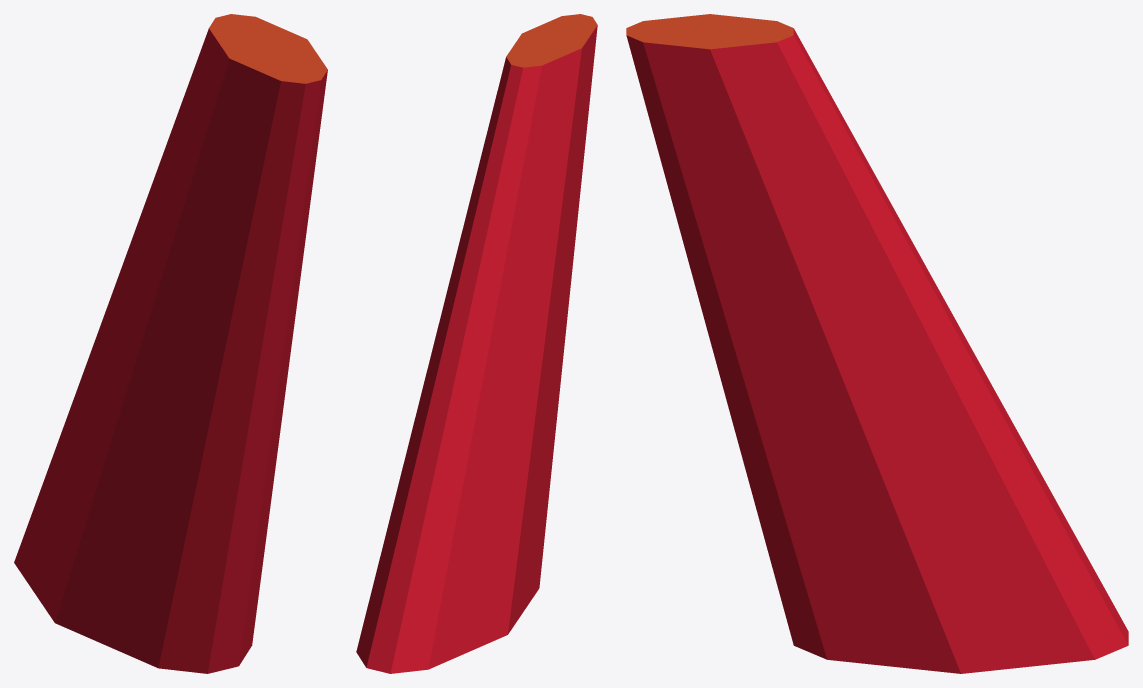
The model's file is VoidLeg1.FBX.
3 views of the same model, side by side, from view 1: azimuth 30°, elevation 25°; view 2: azimuth 150°, elevation 25°; view 3: azimuth 270°, elevation 25° (orthographic). The views are drawn at different scales.
Visible parts, largest first — view 1: VIFS001, VIFS002; view 2: VIFS001, VIFS002; view 3: VIFS001, VIFS002.
Boxes of the visible parts, box(x1,y1,x2,y2) form: VIFS001: box(14, 28, 327, 673); VIFS002: box(209, 14, 327, 83); VIFS001: box(356, 25, 597, 673); VIFS002: box(506, 14, 597, 67); VIFS001: box(626, 28, 1128, 673); VIFS002: box(626, 14, 793, 49).
Size of the model in its own units: 0.2 by 0.8 by 0.6.
